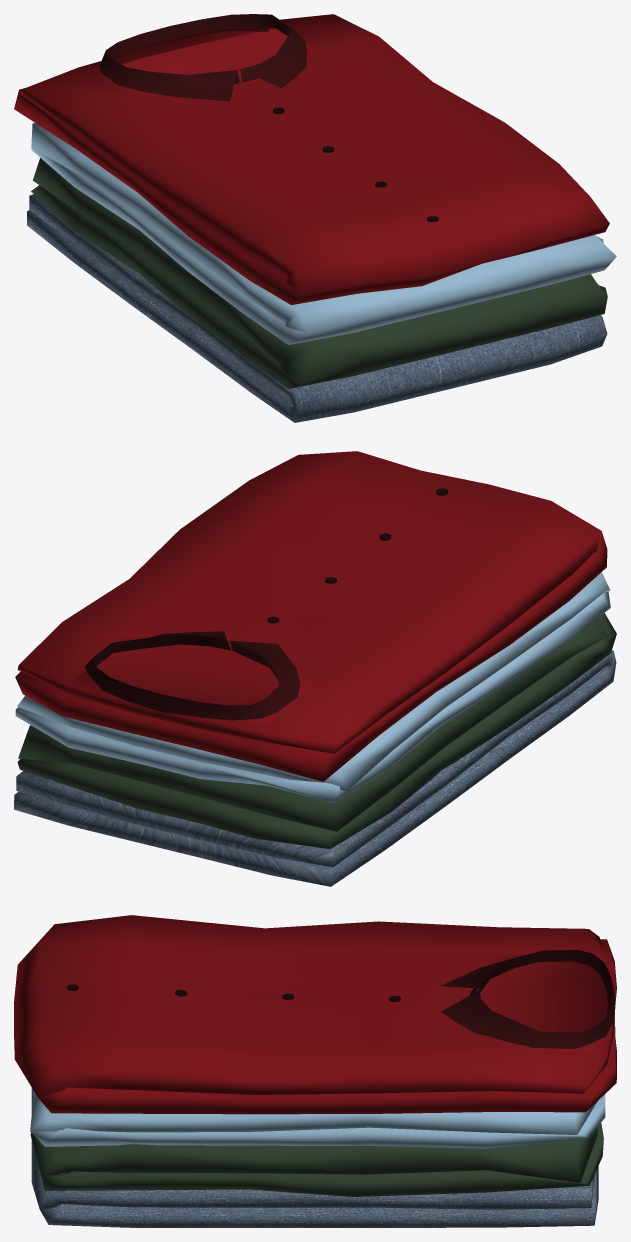
The model's file is folded_clothes.obj.
3 renders of one model, top to bottom at view 1: azimuth 30°, elevation 25°; view 2: azimuth 150°, elevation 25°; view 3: azimuth 270°, elevation 25°, orthographic. The views are drawn at different scales.
Visible parts, largest first — view 1: chemise_Cube, clothe_base.001_Cube.002, clothe_base_Cube.001, clothe_base.002_Cube.003; view 2: chemise_Cube, clothe_base.001_Cube.002, clothe_base.002_Cube.003, clothe_base_Cube.001; view 3: chemise_Cube, clothe_base.001_Cube.002, clothe_base.002_Cube.003, clothe_base_Cube.001.
Part boxes in pixels (x1,y1,x2,y2): chemise_Cube: (14,14,609,304); clothe_base.001_Cube.002: (31,158,607,388); clothe_base_Cube.001: (31,123,616,345); clothe_base.002_Cube.003: (27,194,607,422); chemise_Cube: (15,451,607,781); clothe_base.001_Cube.002: (17,613,616,848); clothe_base.002_Cube.003: (14,650,616,886); clothe_base_Cube.001: (15,572,610,803); chemise_Cube: (14,915,616,1114); clothe_base.001_Cube.002: (30,1122,603,1196); clothe_base.002_Cube.003: (31,1088,598,1227); clothe_base_Cube.001: (30,1089,605,1148).
Bounding box in the file's own units: 26.33 × 12.24 × 40.41.
Materials: 6 (1 with a texture image).
